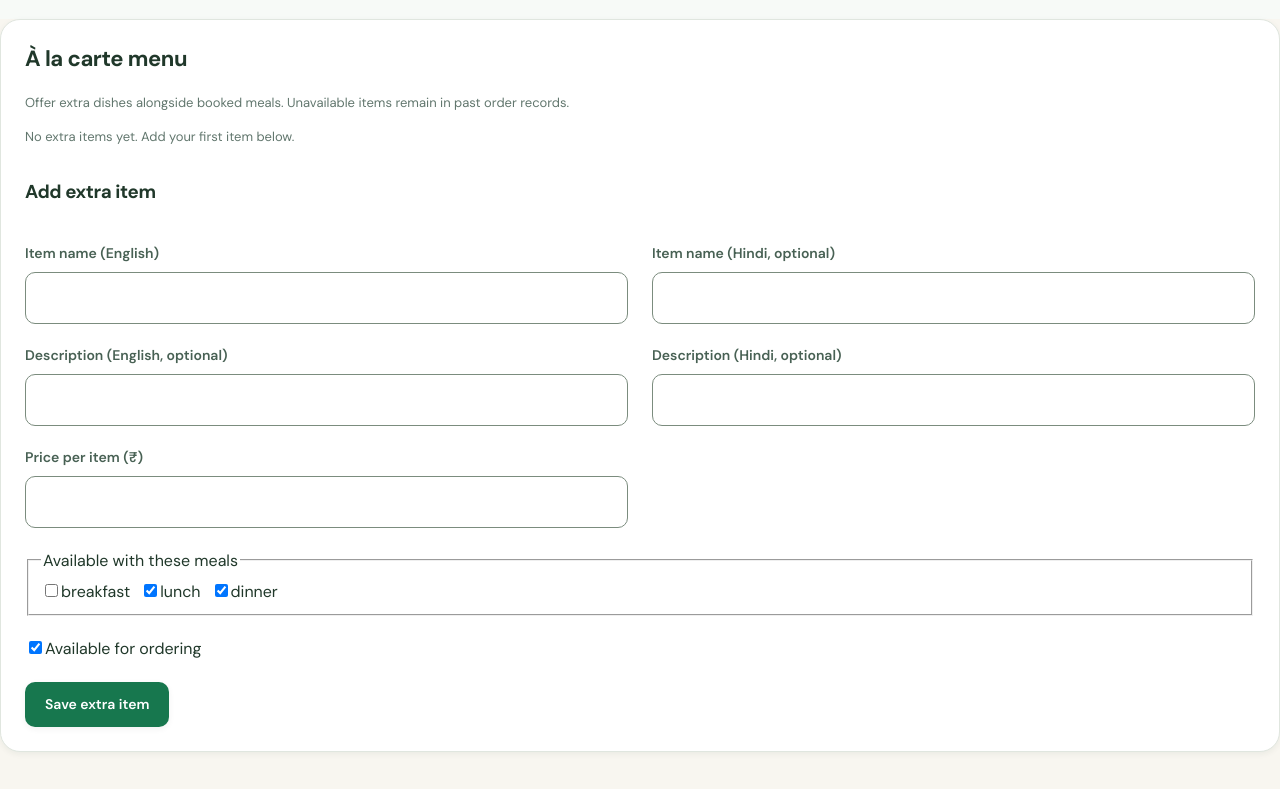
creates an item and can make it unavailable without deleting the record
Expected: the text "No extra items yet. Add your first item below." is shown, x1=25 y1=128 x2=294 y2=145
In the field labelled "Item name (English)": (326, 298) x1=25 y1=272 x2=628 y2=324, type "Roti"
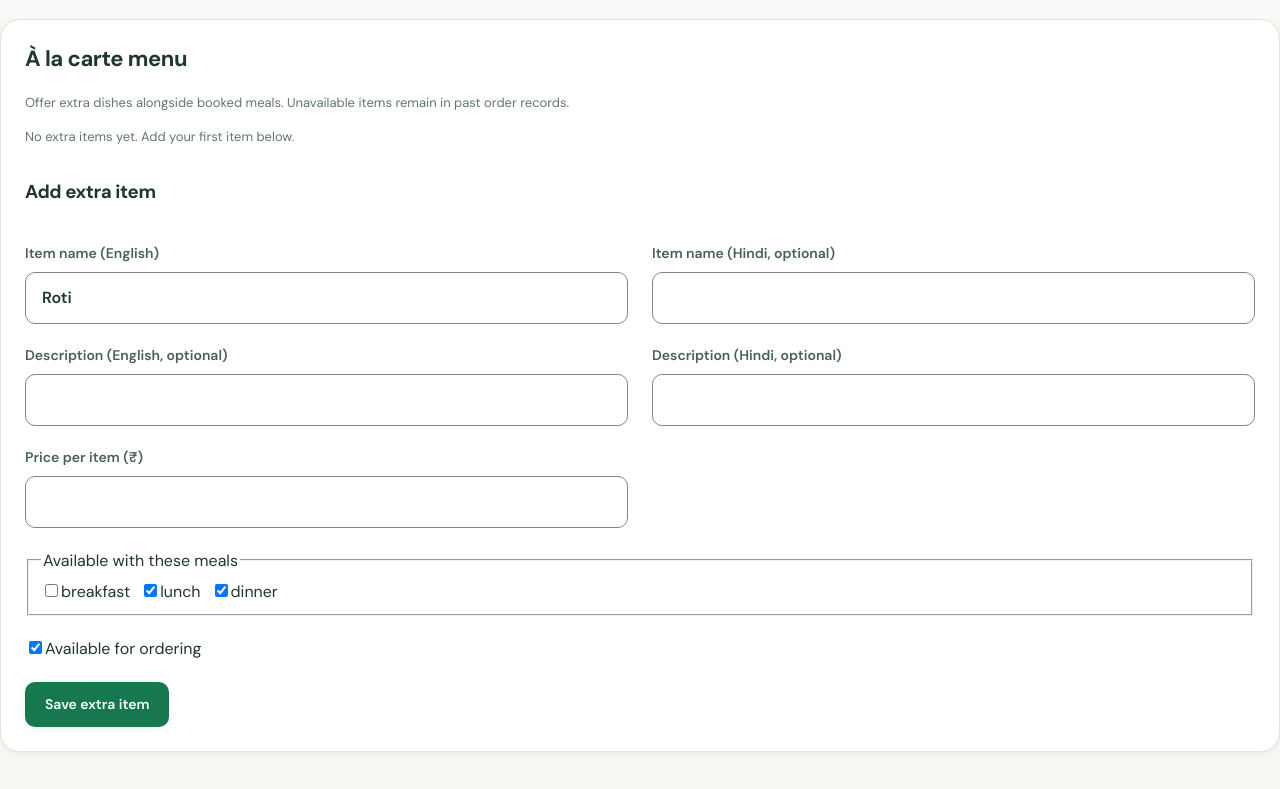
In the number field labelled "Price per item (₹)": (326, 502) x1=25 y1=476 x2=628 y2=528, type "20"
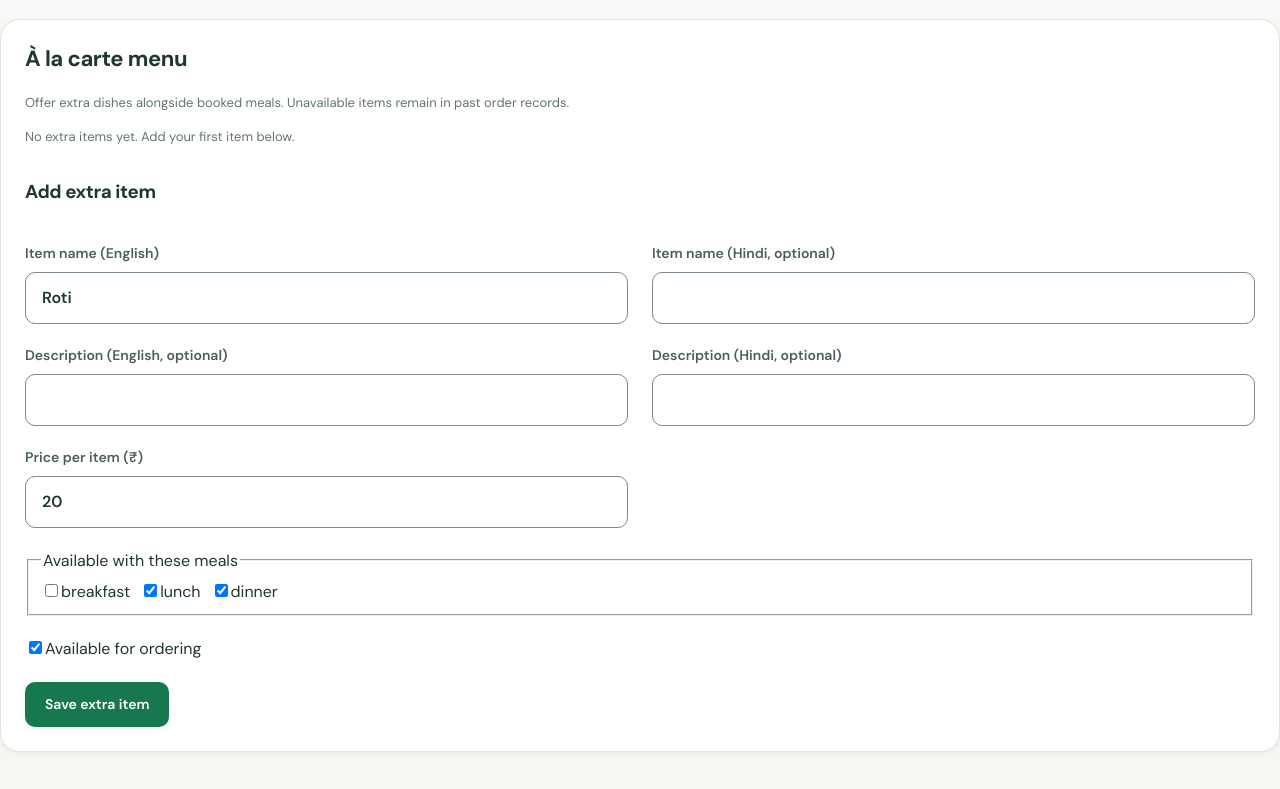
Click the button "Save extra item": (97, 704) x1=25 y1=682 x2=169 y2=727
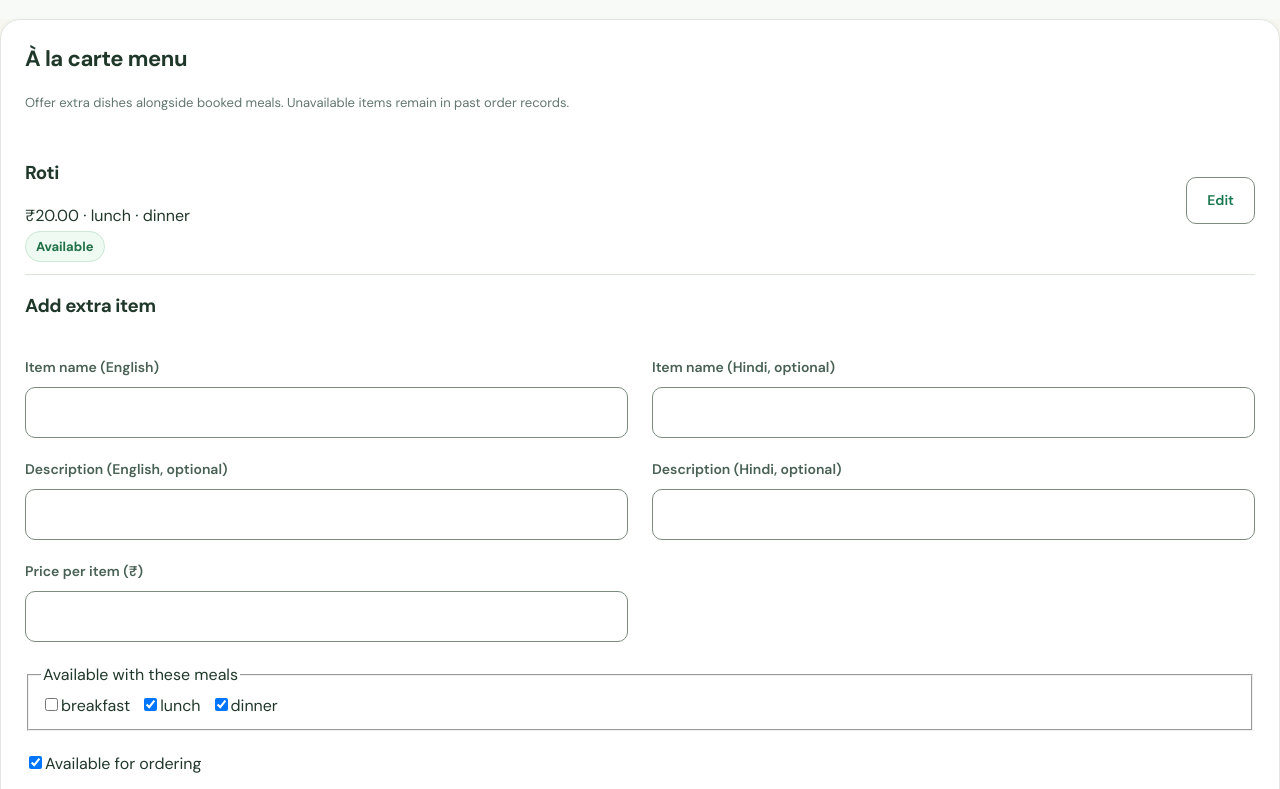
Now the heading "Roti" is shown, box x1=25 y1=160 x2=59 y2=185
Click the button with aria-label "Edit extra item: Roti": (1221, 200) x1=1186 y1=177 x2=1255 y2=224
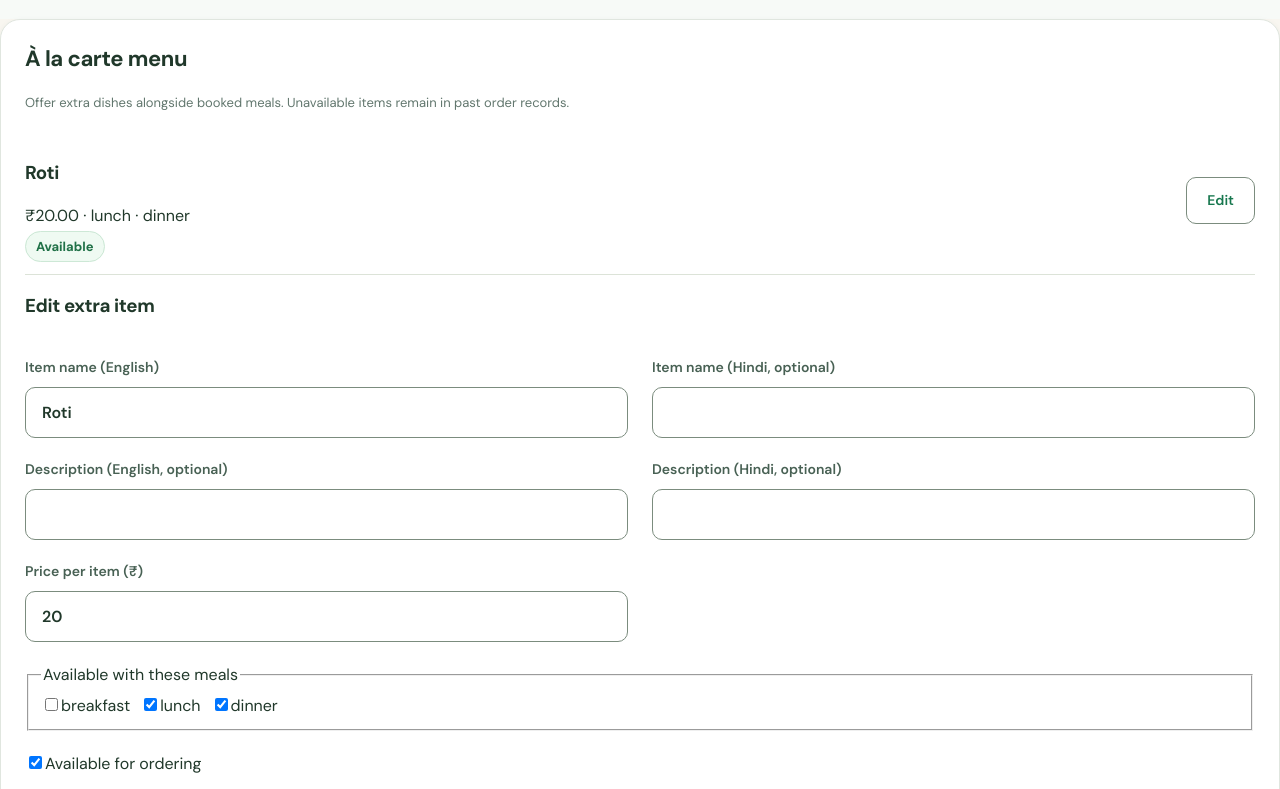
Click the checkbox labelled "Available for ordering": (36, 762) x1=29 y1=756 x2=42 y2=769
(page scrolled)
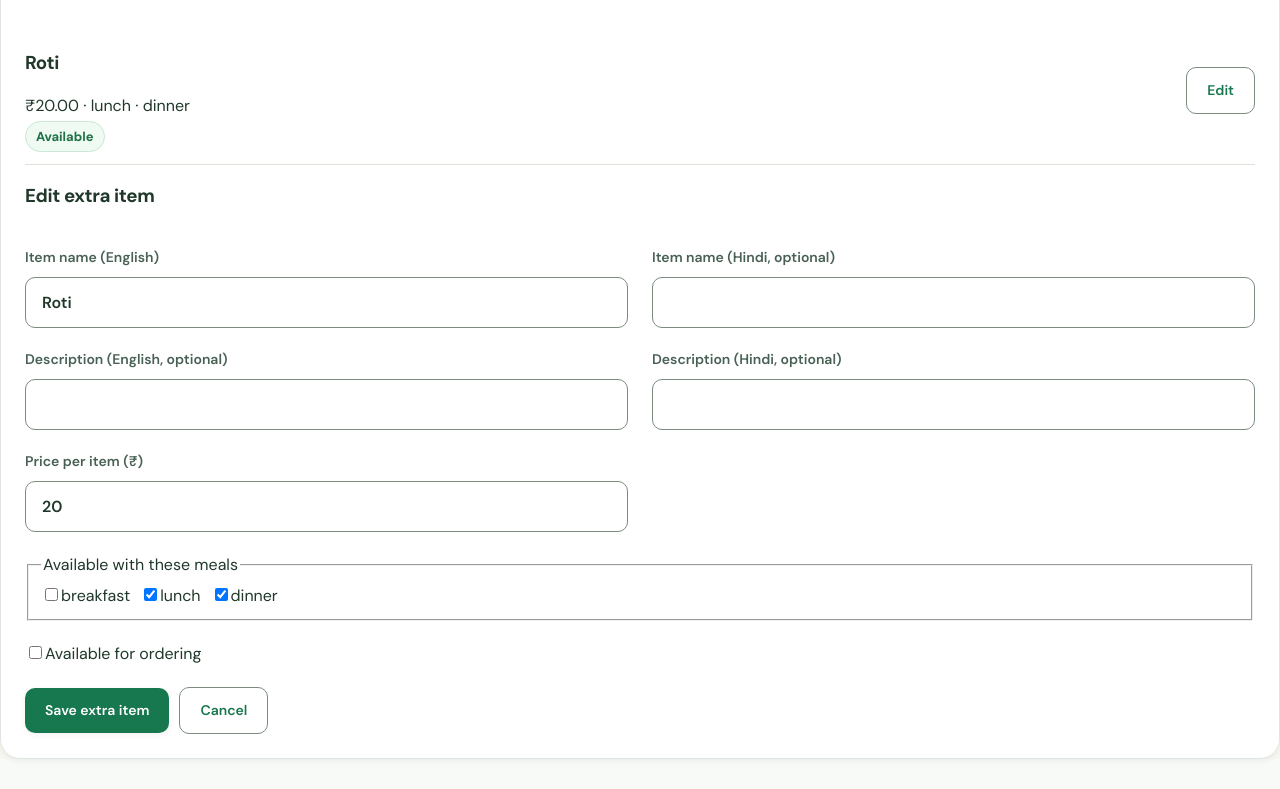
Click the button "Save extra item": (97, 710) x1=25 y1=688 x2=169 y2=732
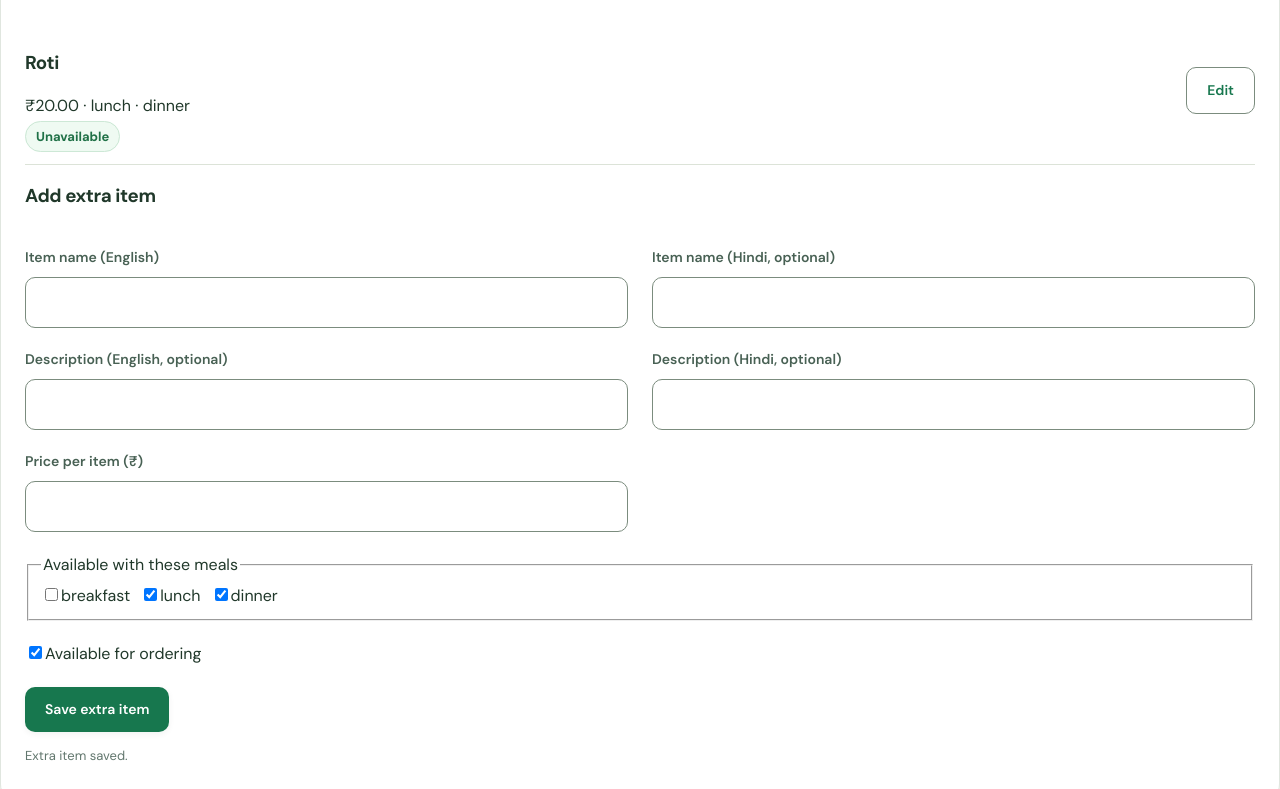
Now the heading "Roti" is shown, box x1=25 y1=50 x2=59 y2=75
Now the text "Unavailable" is shown, box x1=25 y1=121 x2=120 y2=152
